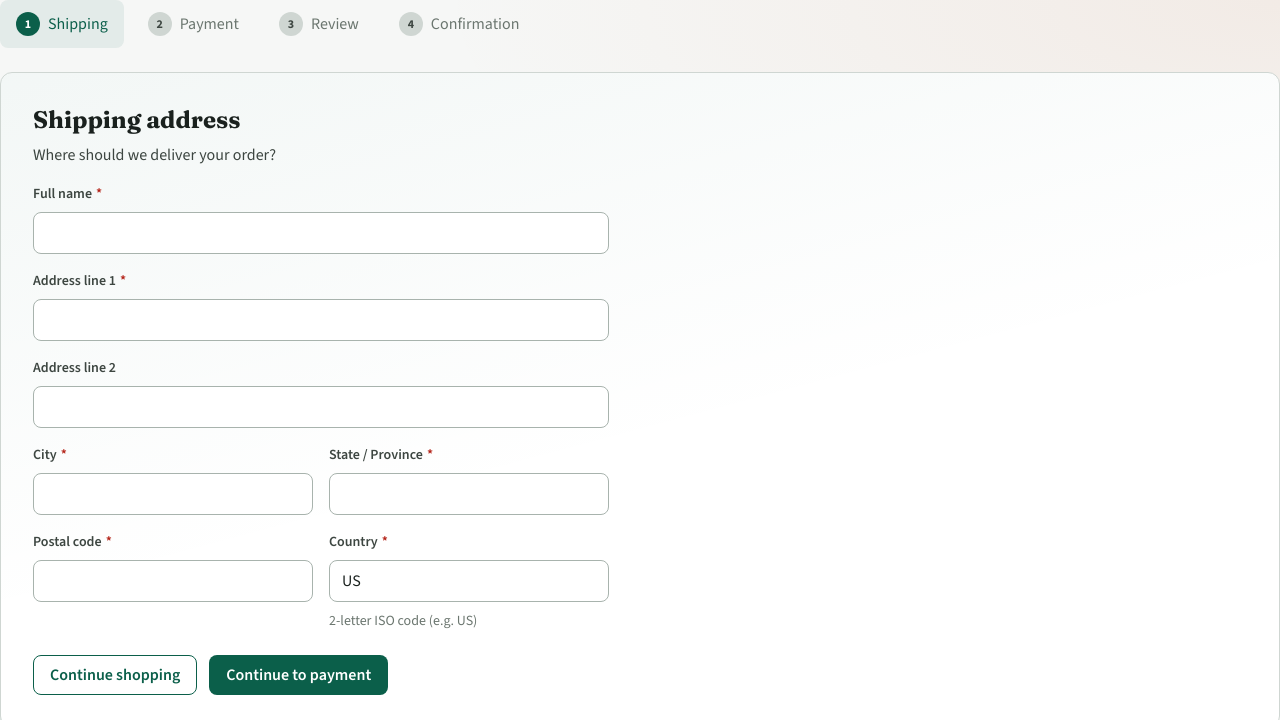
Scenario: CheckoutWizard › validates shipping before advancing
Click the button "Continue to payment" at (299, 675), box left=209, top=655, right=388, bottom=695
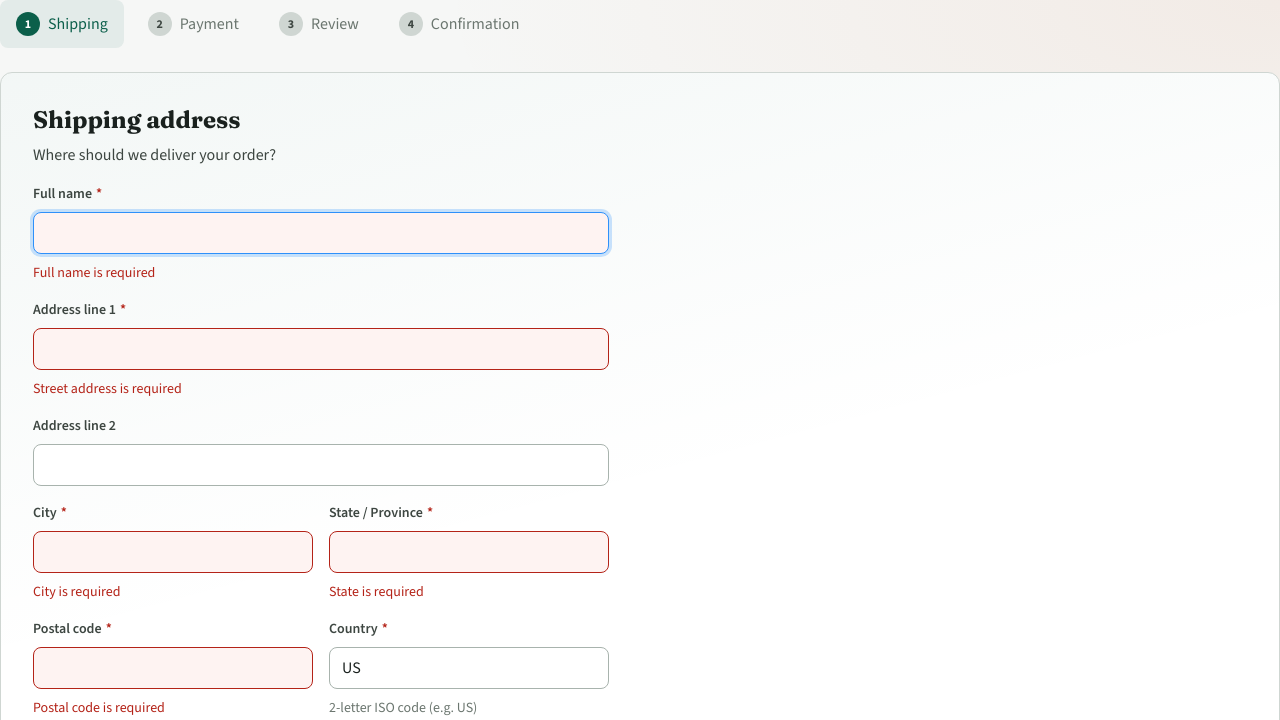
Check: the heading "Shipping address" is shown, box left=33, top=105, right=240, bottom=134
Check: the text "Full name is required" is shown, box left=33, top=263, right=155, bottom=282
